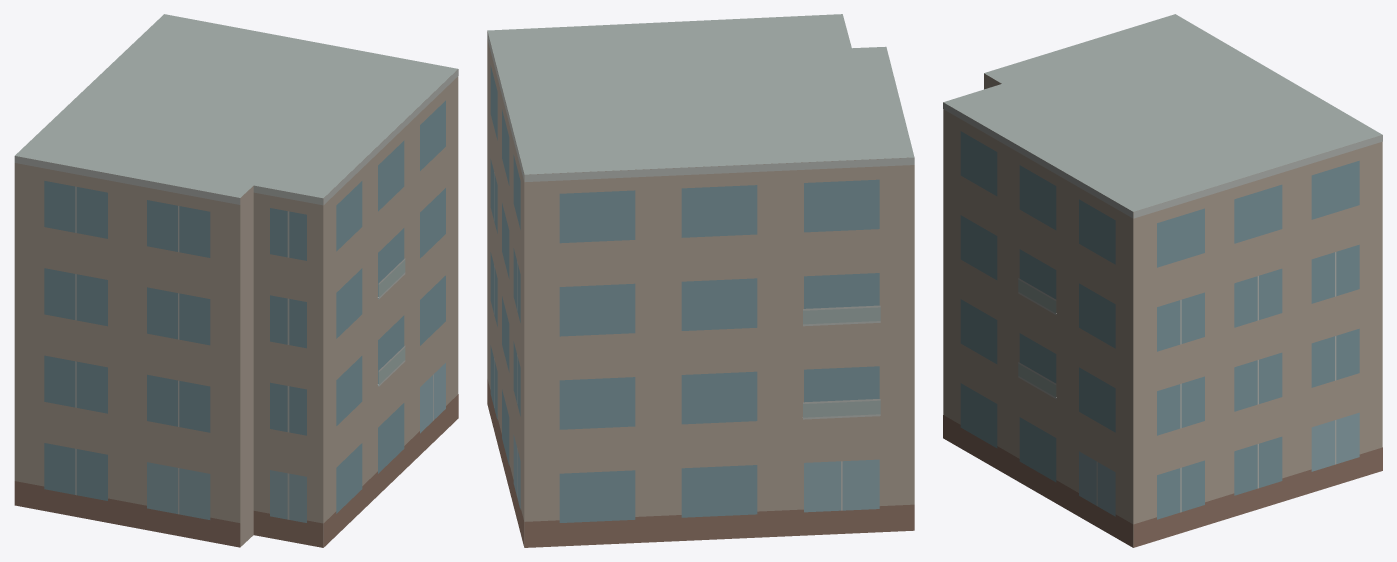
The model's file is survey-upis-32666757.glb.
The picture shows the model from 3 angles, left to right: view 1: azimuth 30°, elevation 25°; view 2: azimuth 150°, elevation 25°; view 3: azimuth 270°, elevation 25°; orthographic projection. The views are drawn at different scales.
Parts seen in each view (by area): view 1: survey-upis-32666757.tmp; view 2: survey-upis-32666757.tmp; view 3: survey-upis-32666757.tmp.
Boxes of the visible parts, x1,y1,x2,y2 form: survey-upis-32666757.tmp: (14,14,458,547); survey-upis-32666757.tmp: (487,14,914,547); survey-upis-32666757.tmp: (943,14,1382,547).
Size of the model in its own units: 15.29 by 12.1 by 14.36.
